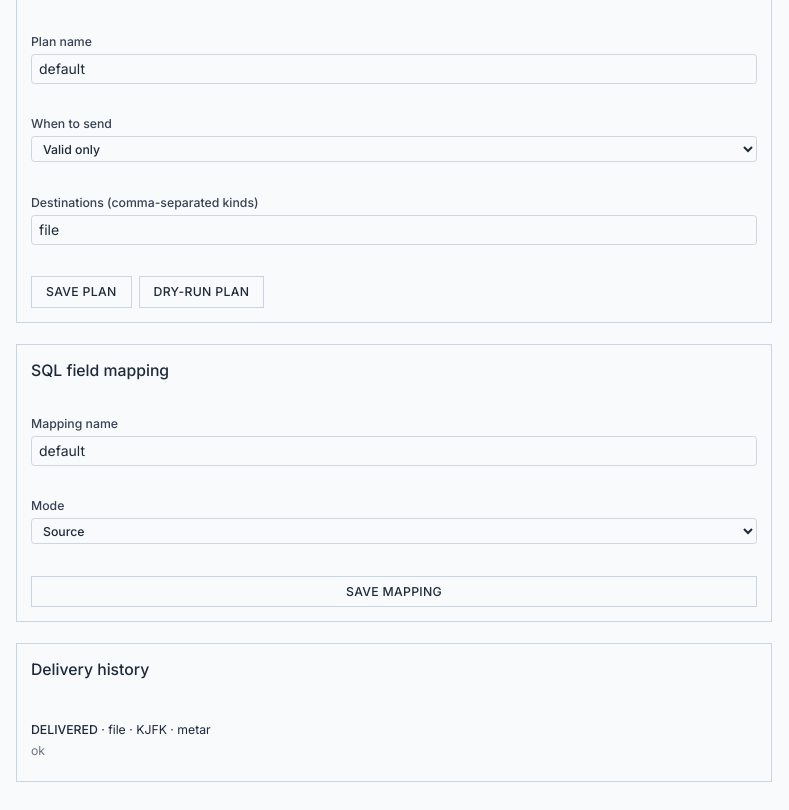
DisseminationOpsPage › shows mapping save error
(page scrolled)
Click the button with test id "mapping-save" at (394, 591), box [31,576,757,607]
(page scrolled)
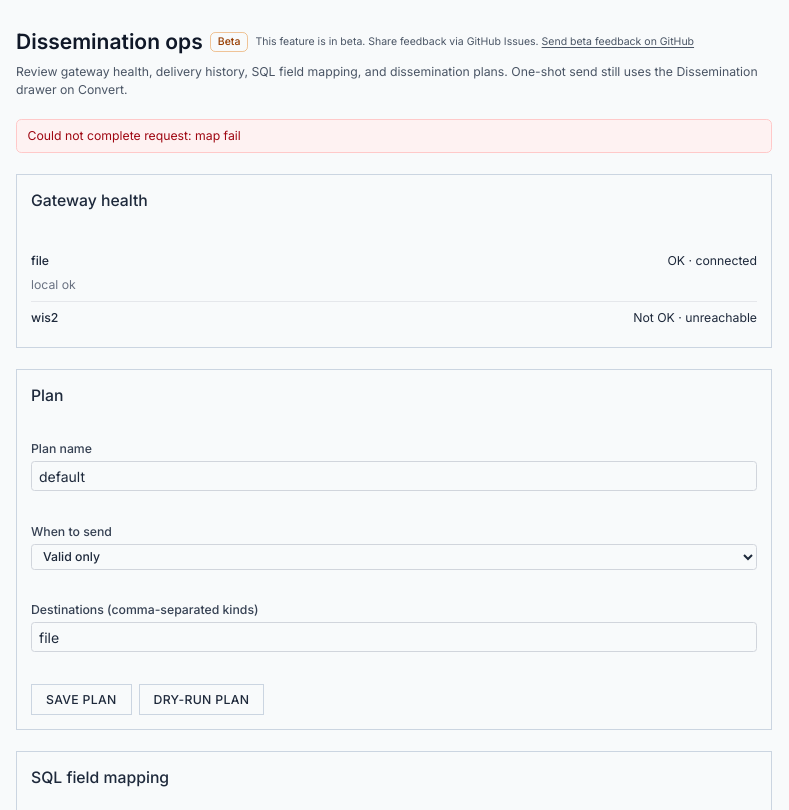
expect the message with test id "dissemination-ops-error" shows "map fail": met, box [28,128,241,143]
